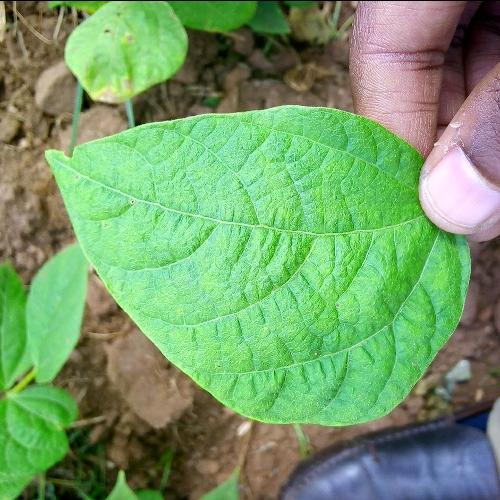sehat: (93, 130, 404, 405)
